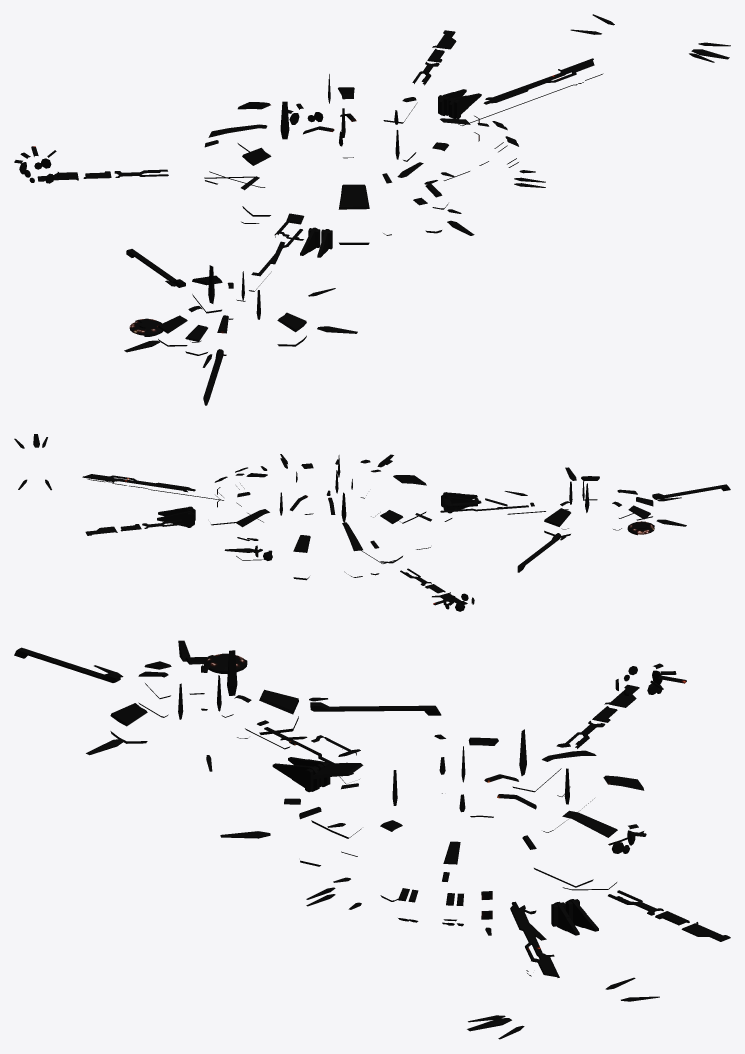
File: ama_st_dock_02.glb
The picture shows the model from 3 angles, top to bottom: view 1: azimuth 30°, elevation 25°; view 2: azimuth 150°, elevation 25°; view 3: azimuth 270°, elevation 25°; orthographic projection. The views are drawn at different scales.
Parts seen in each view (by area): view 1: ama_station_02_LOD0; view 2: ama_station_02_LOD0; view 3: ama_station_02_LOD0.
Part boxes in pixels (x1,y1,x2,y2): ama_station_02_LOD0: (14, 14, 730, 405); ama_station_02_LOD0: (14, 434, 730, 611); ama_station_02_LOD0: (14, 640, 730, 1039).
Size of what is drawn, in the model's own units: 58.21 by 8.14 by 40.59.
1 material, 1 textured.
